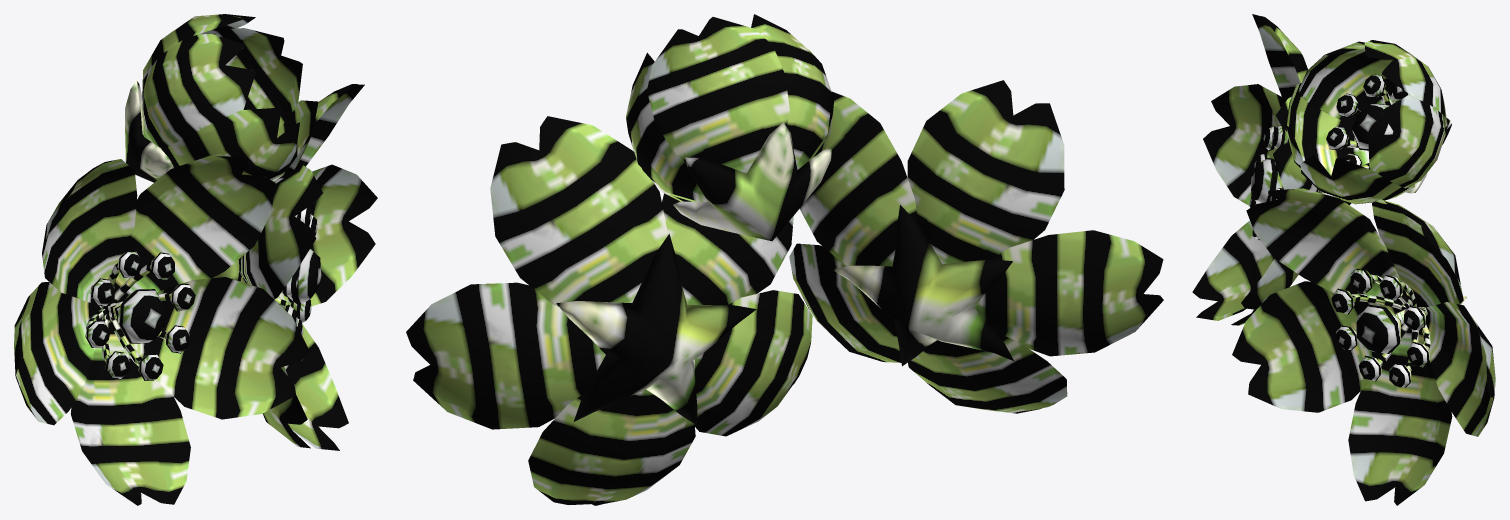
Rendered from pm0133_00_Rig.fbx.
3 renders of one model, left to right at view 1: azimuth 30°, elevation 25°; view 2: azimuth 150°, elevation 25°; view 3: azimuth 270°, elevation 25°, orthographic. The views are drawn at different scales.
Parts seen in each view (by area): view 1: doodad_spring_2023_flower; view 2: doodad_spring_2023_flower; view 3: doodad_spring_2023_flower.
Part boxes in pixels (left/top/right/bottom): doodad_spring_2023_flower: left=14, top=14, right=377, bottom=505; doodad_spring_2023_flower: left=406, top=14, right=1163, bottom=505; doodad_spring_2023_flower: left=1192, top=14, right=1495, bottom=505.
Size of the model in its own units: 0.0978 by 0.0826 by 0.0563.
